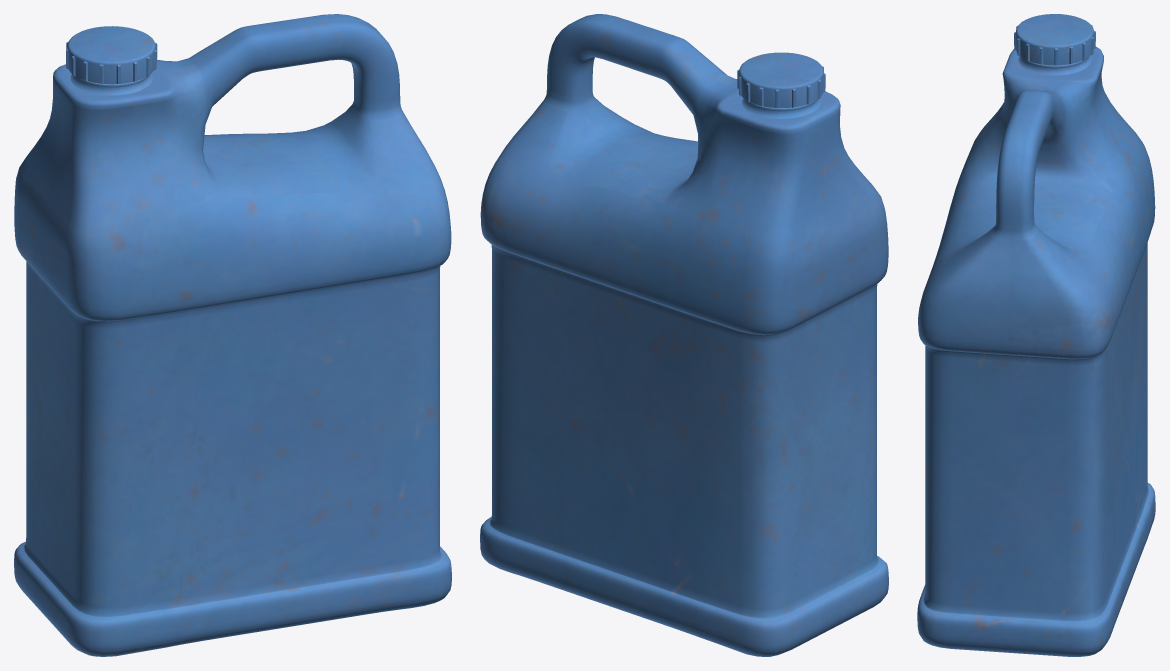
The model's file is CleaningSolutionA.fbx.
3 renders of one model, left to right at view 1: azimuth 30°, elevation 25°; view 2: azimuth 150°, elevation 25°; view 3: azimuth 270°, elevation 25°, orthographic. The views are drawn at different scales.
Parts seen in each view (by area): view 1: KB3D_ECE_BldgIntMorgue_A_ChemicalContainerF; view 2: KB3D_ECE_BldgIntMorgue_A_ChemicalContainerF; view 3: KB3D_ECE_BldgIntMorgue_A_ChemicalContainerF.
Boxes of the visible parts, x1=… form: KB3D_ECE_BldgIntMorgue_A_ChemicalContainerF: x1=14, y1=14, x2=451, y2=656; KB3D_ECE_BldgIntMorgue_A_ChemicalContainerF: x1=480, y1=14, x2=888, y2=656; KB3D_ECE_BldgIntMorgue_A_ChemicalContainerF: x1=917, y1=14, x2=1155, y2=656.
Bounding box in the file's own units: 29.18 × 43.38 × 18.41.
